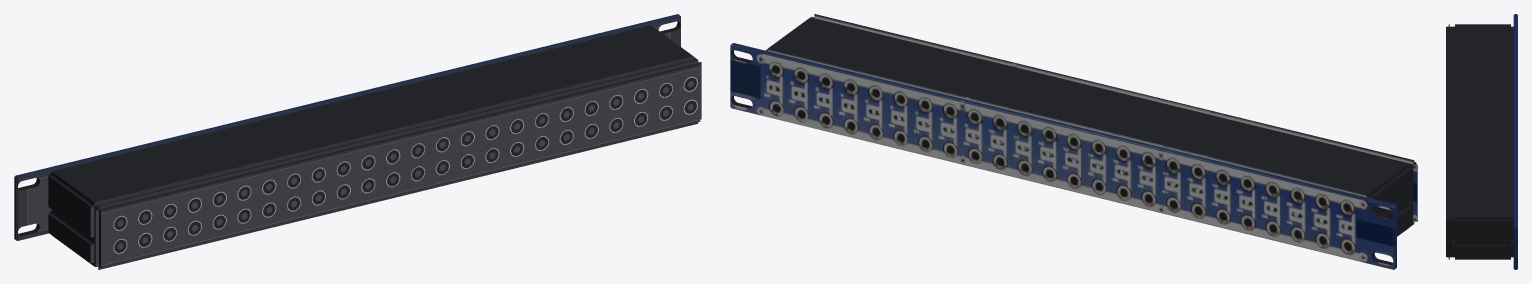
The model's file is samson-s-patch-plus.glb.
The picture shows the model from 3 angles, left to right: view 1: azimuth 30°, elevation 25°; view 2: azimuth 150°, elevation 25°; view 3: azimuth 270°, elevation 25°; orthographic projection. The views are drawn at different scales.
Visible parts, largest first — view 1: samson-s-patch-plus-body; view 2: samson-s-patch-plus-body; view 3: samson-s-patch-plus-body.
Part boxes in pixels (x1,y1,x2,y2): samson-s-patch-plus-body: (14,14,701,269); samson-s-patch-plus-body: (730,14,1417,269); samson-s-patch-plus-body: (1446,14,1517,269).
Bounding box in the file's own units: 0.4826 × 0.0445 × 0.0685.
1 material, 1 textured.
